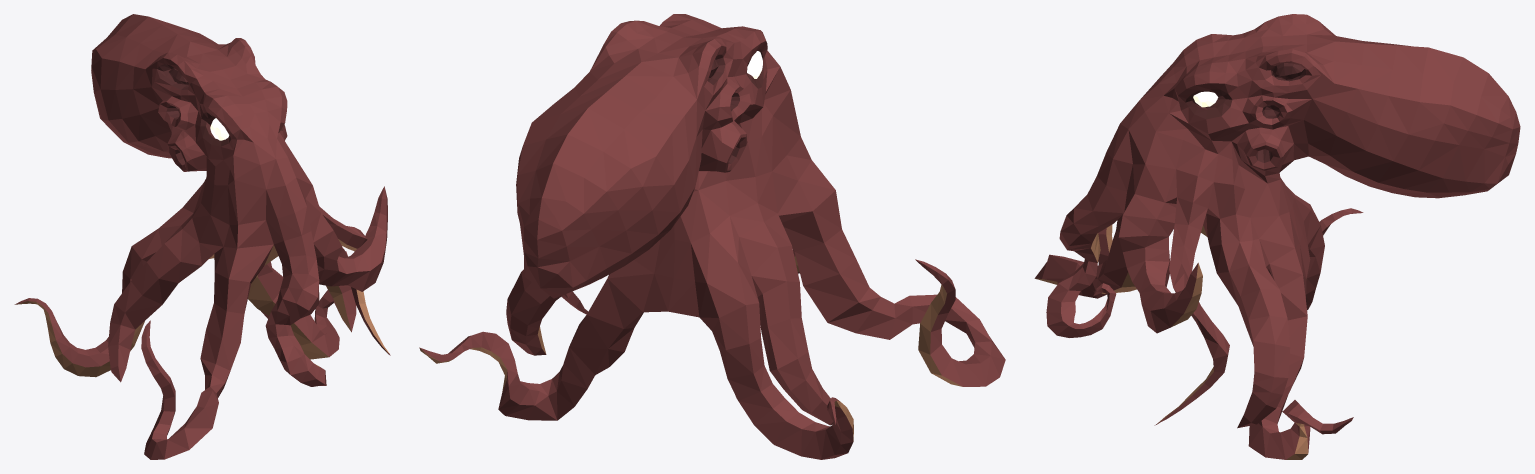
The model's file is Krakren_Table_002.fbx.
3 views of the same model, side by side, from view 1: azimuth 30°, elevation 25°; view 2: azimuth 150°, elevation 25°; view 3: azimuth 270°, elevation 25° (orthographic). The views are drawn at different scales.
Parts seen in each view (by area): view 1: Krakren_Table_002; view 2: Krakren_Table_002; view 3: Krakren_Table_002.
Part boxes in pixels (box(x1,y1,x2,y2)): Krakren_Table_002: box(14, 14, 390, 459); Krakren_Table_002: box(419, 14, 1005, 459); Krakren_Table_002: box(1034, 14, 1520, 459).
Bounding box in the file's own units: 2.35 × 2.26 × 2.7.
